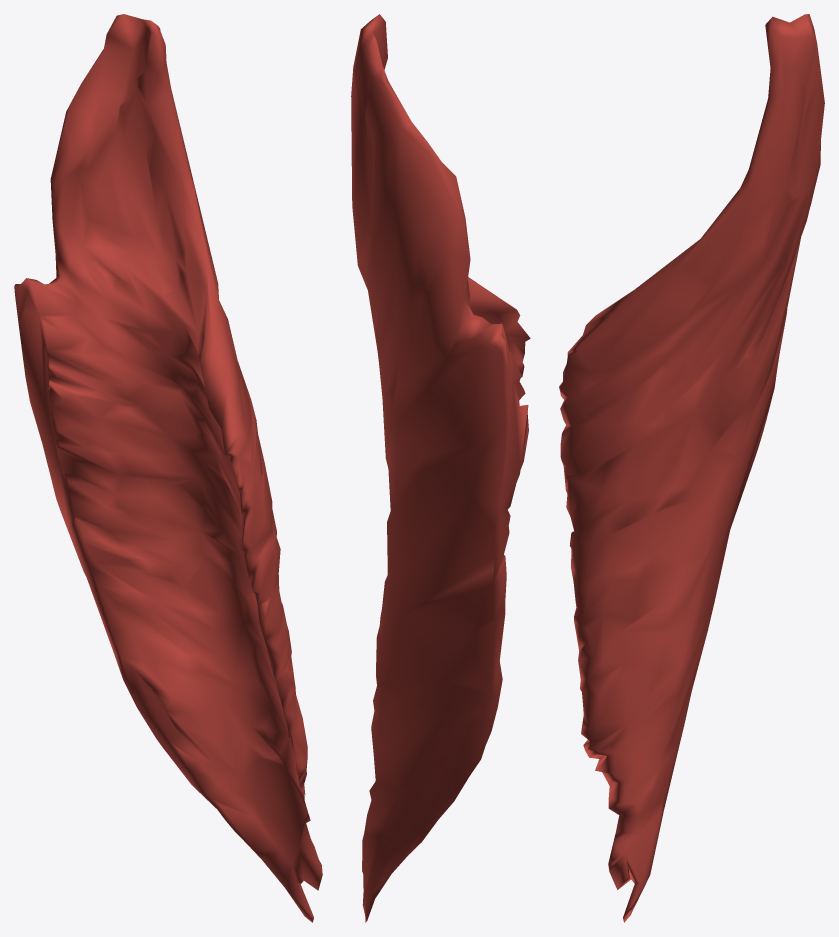
The model's file is musculos-supinator-l.glb.
The picture shows the model from 3 angles, left to right: view 1: azimuth 30°, elevation 25°; view 2: azimuth 150°, elevation 25°; view 3: azimuth 270°, elevation 25°; orthographic projection. The views are drawn at different scales.
Parts seen in each view (by area): view 1: Supinator.l; view 2: Supinator.l; view 3: Supinator.l.
Part boxes in pixels (x1=…): Supinator.l: x1=14, y1=14, x2=322, y2=922; Supinator.l: x1=351, y1=14, x2=530, y2=922; Supinator.l: x1=559, y1=14, x2=824, y2=922.
Bounding box in the file's own units: 0.0328 × 0.1277 × 0.0356.
